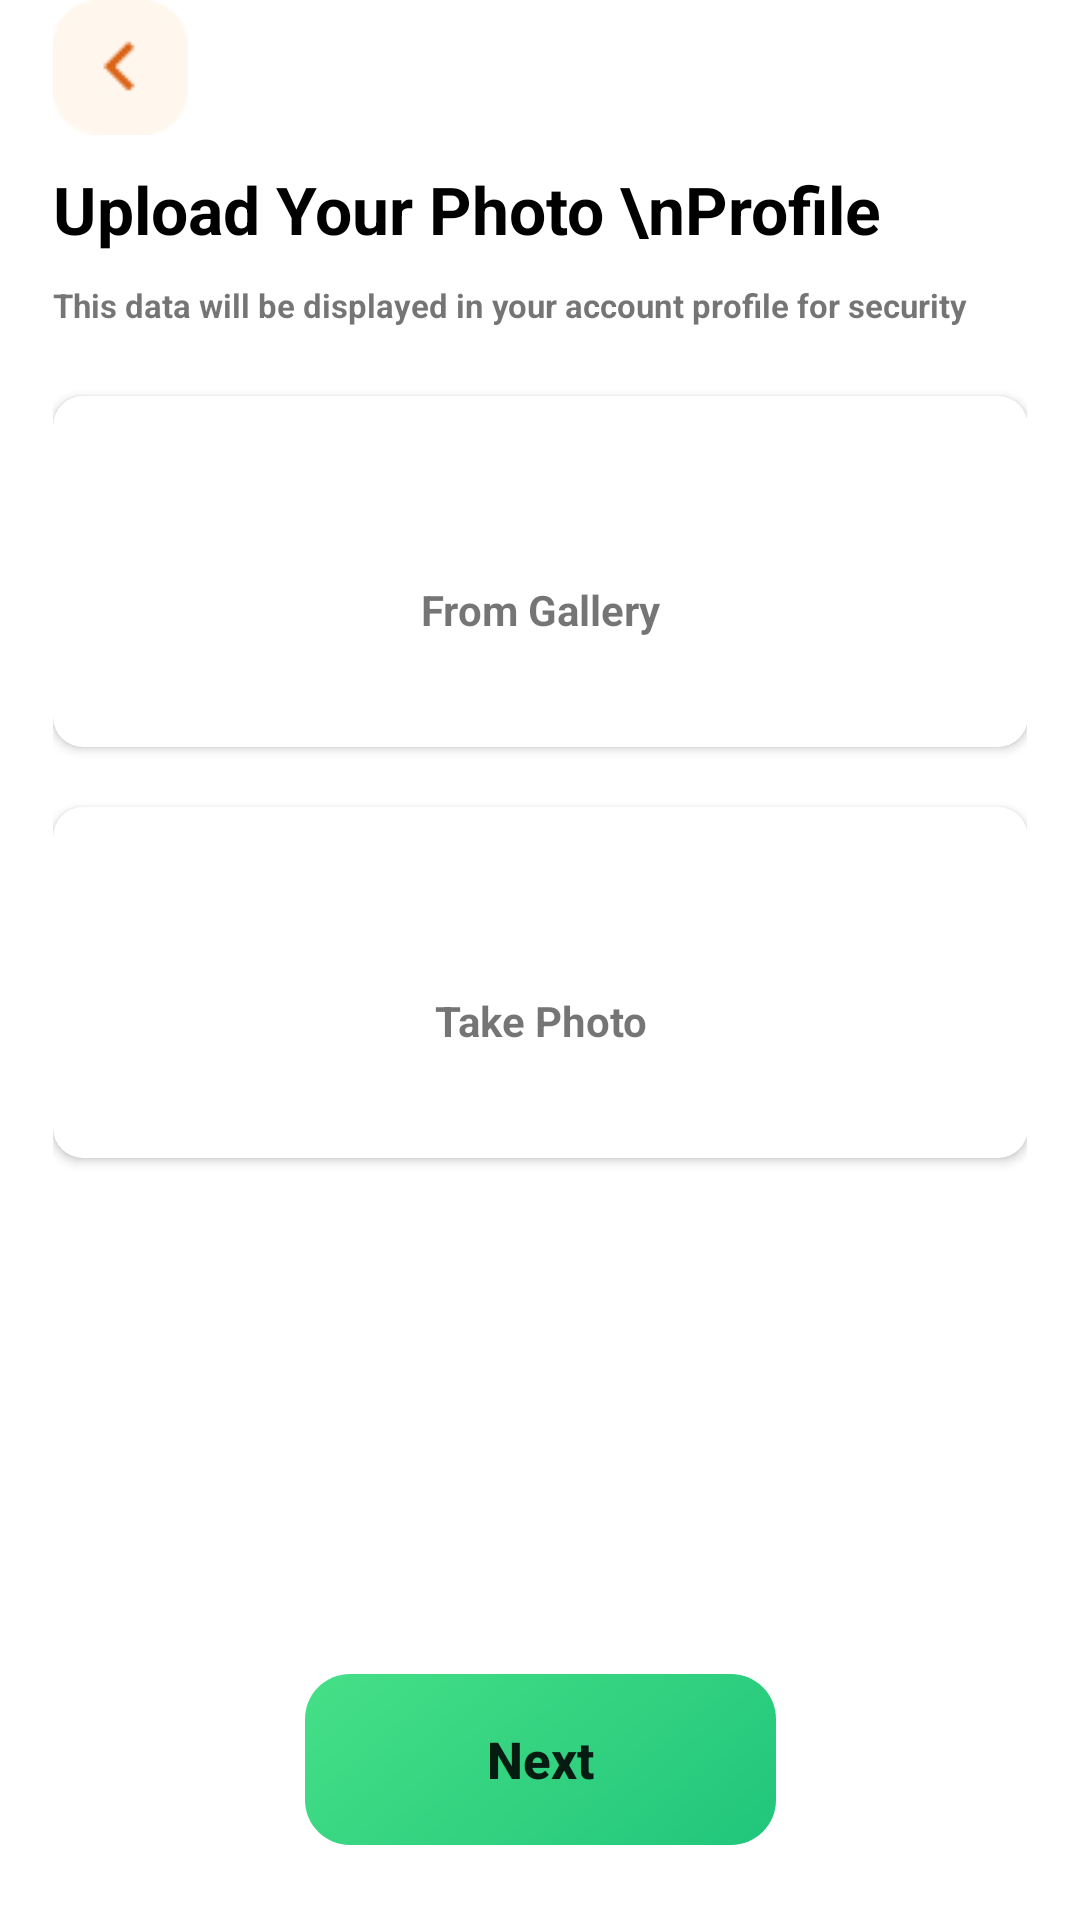

Icons on this 1080*1920 Android screen, each with its box as (x1, y1, x2, y2):
iconback: (103, 41, 135, 93)
